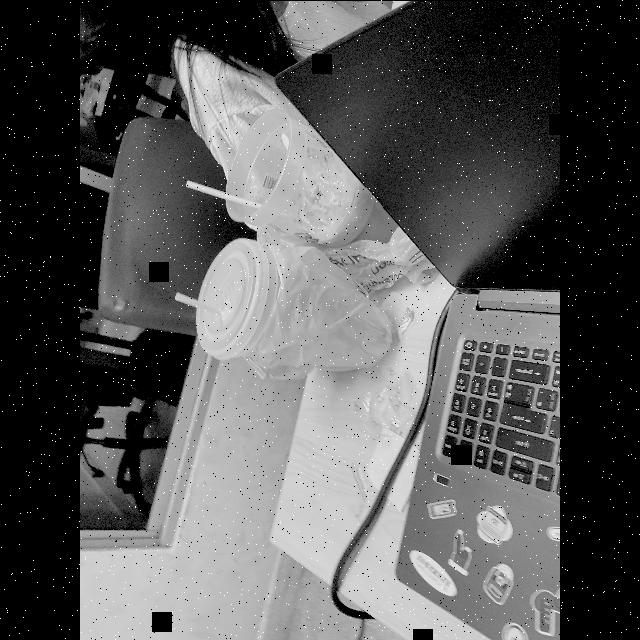plastic_bag: (255, 234, 392, 376), (316, 224, 434, 292)
plastic_cultery: (280, 129, 310, 181)
plastic_cup: (188, 234, 392, 372), (222, 106, 392, 250)
plastic_cup_lid: (190, 240, 274, 360)
scrap_paper: (364, 424, 426, 514)
scrap_plastic: (352, 384, 416, 434), (389, 299, 419, 347)
straw: (186, 179, 264, 207), (173, 290, 224, 316)
